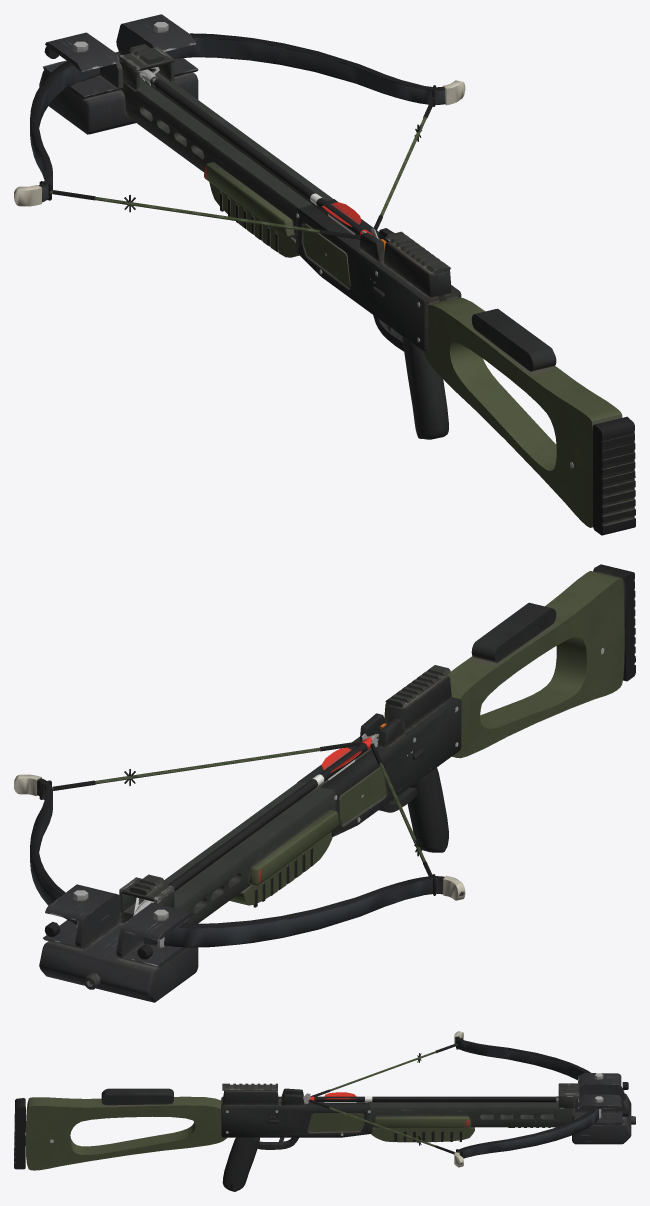
Rendered from besta_recurva_leve.glb.
3 views of the same model, one above another, from view 1: azimuth 30°, elevation 25°; view 2: azimuth 150°, elevation 25°; view 3: azimuth 270°, elevation 25° (orthographic). The views are drawn at different scales.
Parts seen in each view (by area): view 1: besta_recurva_leve; view 2: besta_recurva_leve; view 3: besta_recurva_leve.
Part boxes in pixels (x1,y1,x2,y2): besta_recurva_leve: [14, 14, 635, 535]; besta_recurva_leve: [14, 564, 635, 1002]; besta_recurva_leve: [14, 1031, 635, 1191].
Size of the model in its own units: 0.5054 by 0.1871 by 1.03.
1 material, 1 textured.
